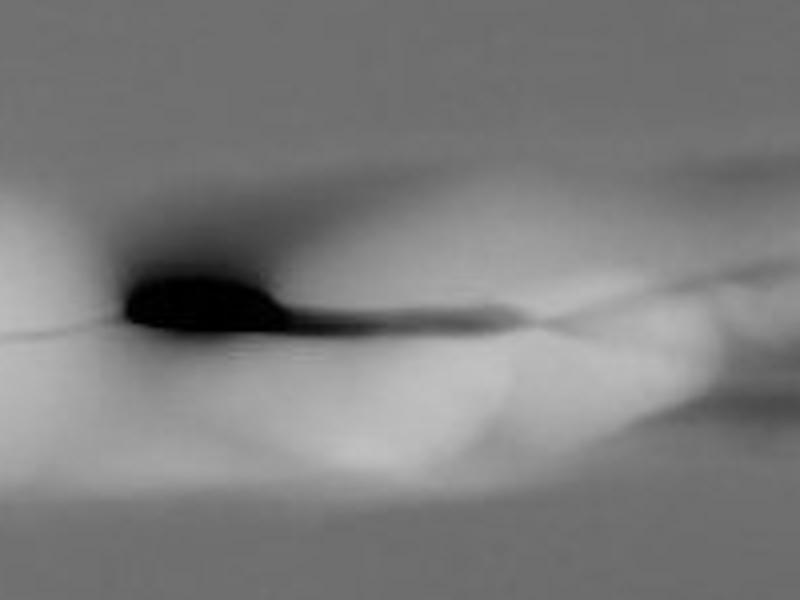defect: (121, 271, 311, 334)
